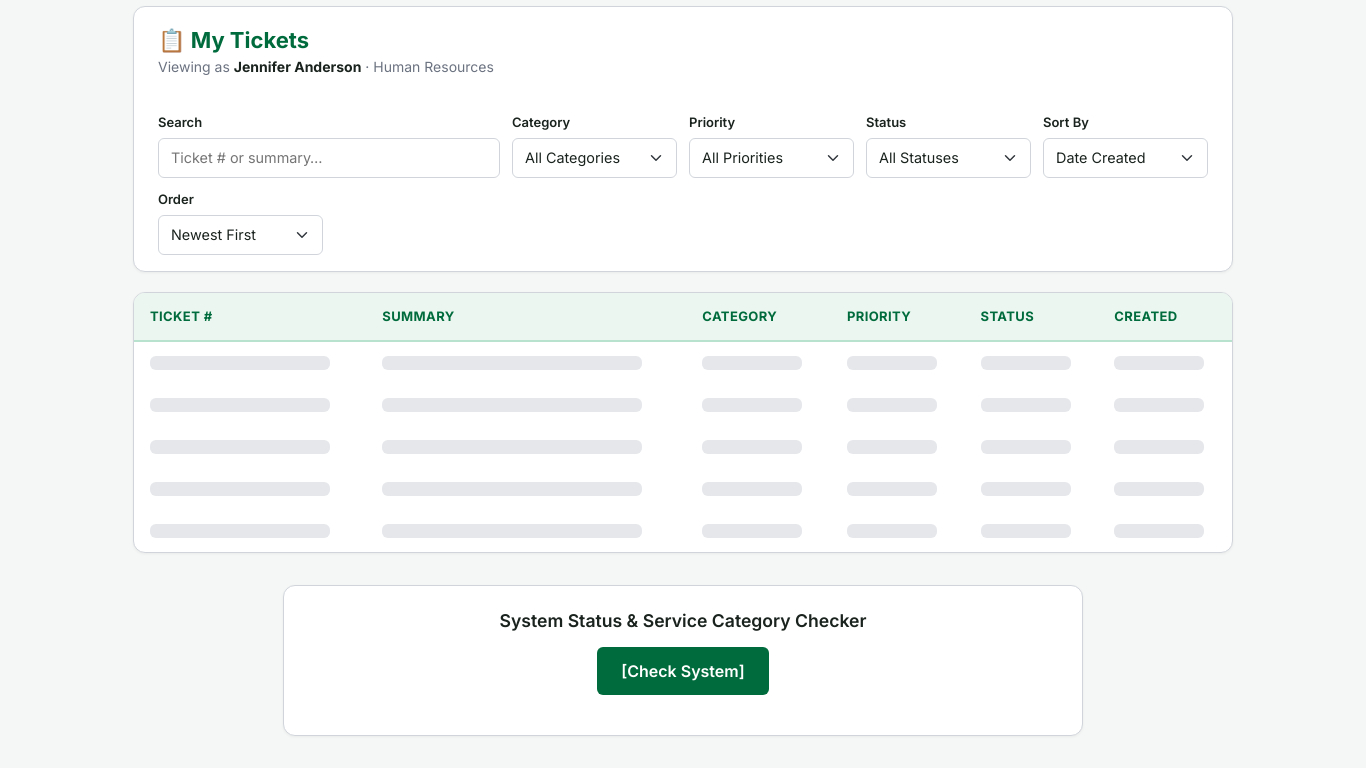
Scenario: TokTickIT IT Service Desk Component › displays offline status and error message on fetch failure
(page scrolled)
Click the button "[Check System]": click(683, 671) [597,647,769,695]
(page scrolled)
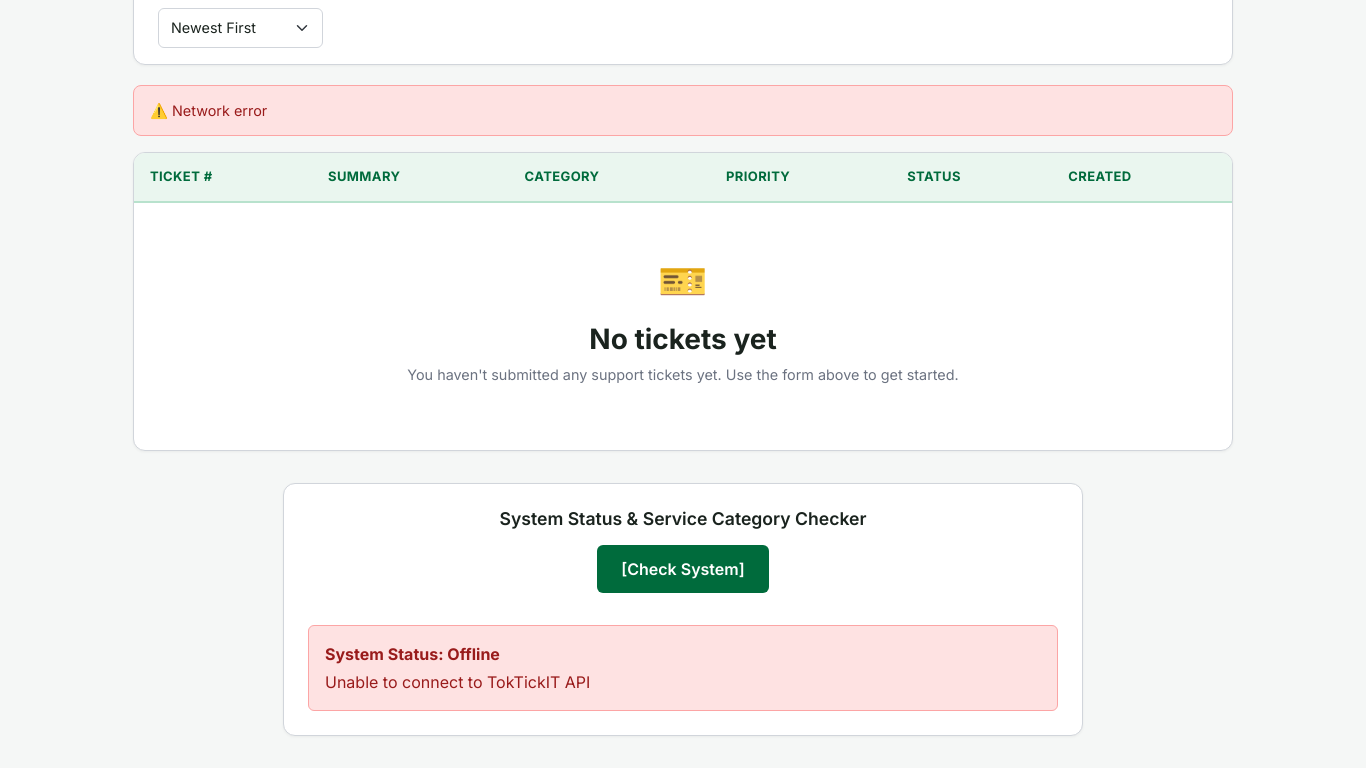
Now the text "System Status: Offline" is shown, box [325,644,500,664]
Now the text "Unable to connect to TokTickIT API" is shown, box [325,672,590,692]
